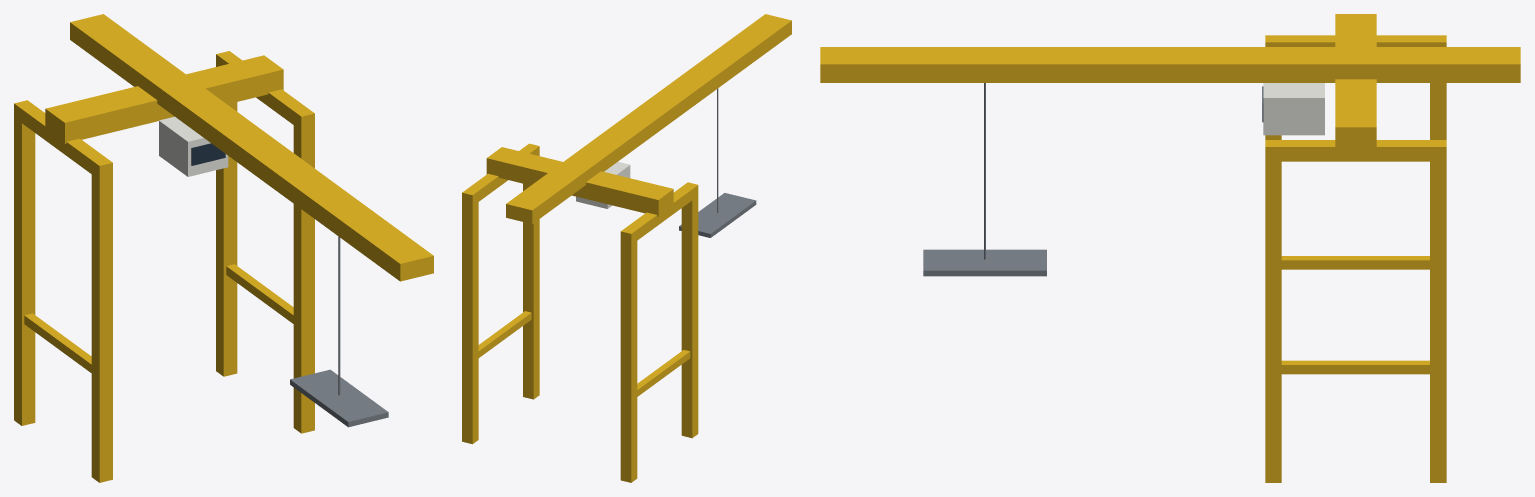
Rendered from crane.glb.
3 renders of one model, left to right at view 1: azimuth 30°, elevation 25°; view 2: azimuth 150°, elevation 25°; view 3: azimuth 270°, elevation 25°, orthographic. The views are drawn at different scales.
Parts seen in each view (by area): view 1: crane_Body; view 2: crane_Body; view 3: crane_Body.
Part boxes in pixels (bbox=[...]): crane_Body: bbox=[14, 14, 433, 482]; crane_Body: bbox=[462, 14, 791, 482]; crane_Body: bbox=[820, 14, 1520, 482].
Size of the model in its own units: 13 by 19.9 by 34.
